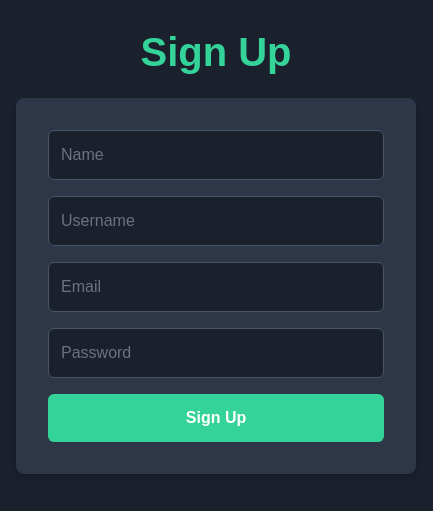
Test: displays an error message on failed sign-up
Note: Simulate user typing into each form field
Type "John Doe" into the field with placeholder "Name" at (216, 155), box [48,130,384,180]
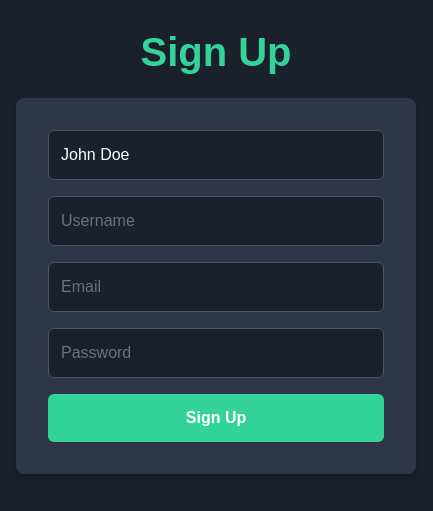
Type "johndoe" into the field with placeholder "Username" at (216, 221), box [48,196,384,246]
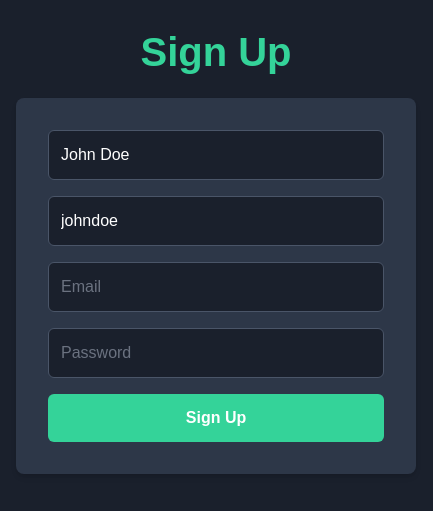
Type "johndoe@example.com" into the field with placeholder "Email" at (216, 287), box [48,262,384,312]
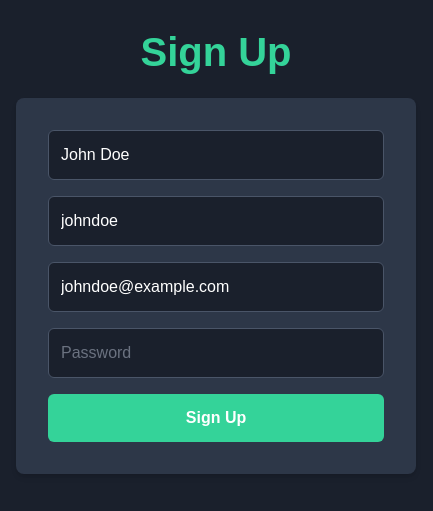
Type "password123" into the password field with placeholder "Password" at (216, 353), box [48,328,384,378]
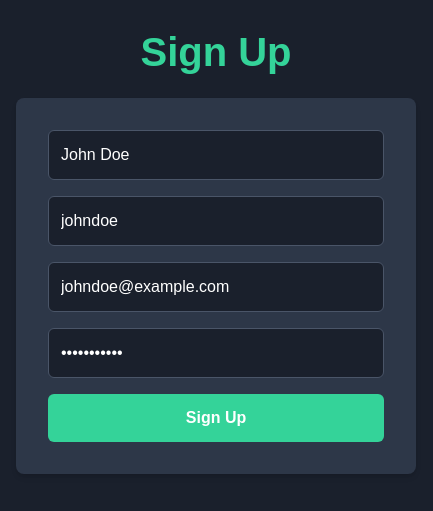
Note: Simulate clicking the "Sign Up" button
Click the button "Sign Up" at (216, 418), box [48,394,384,442]
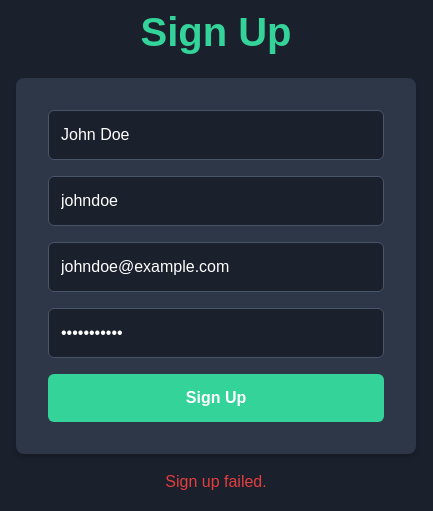
Expected: the text "Sign up failed." is shown, [165,470,267,494]
